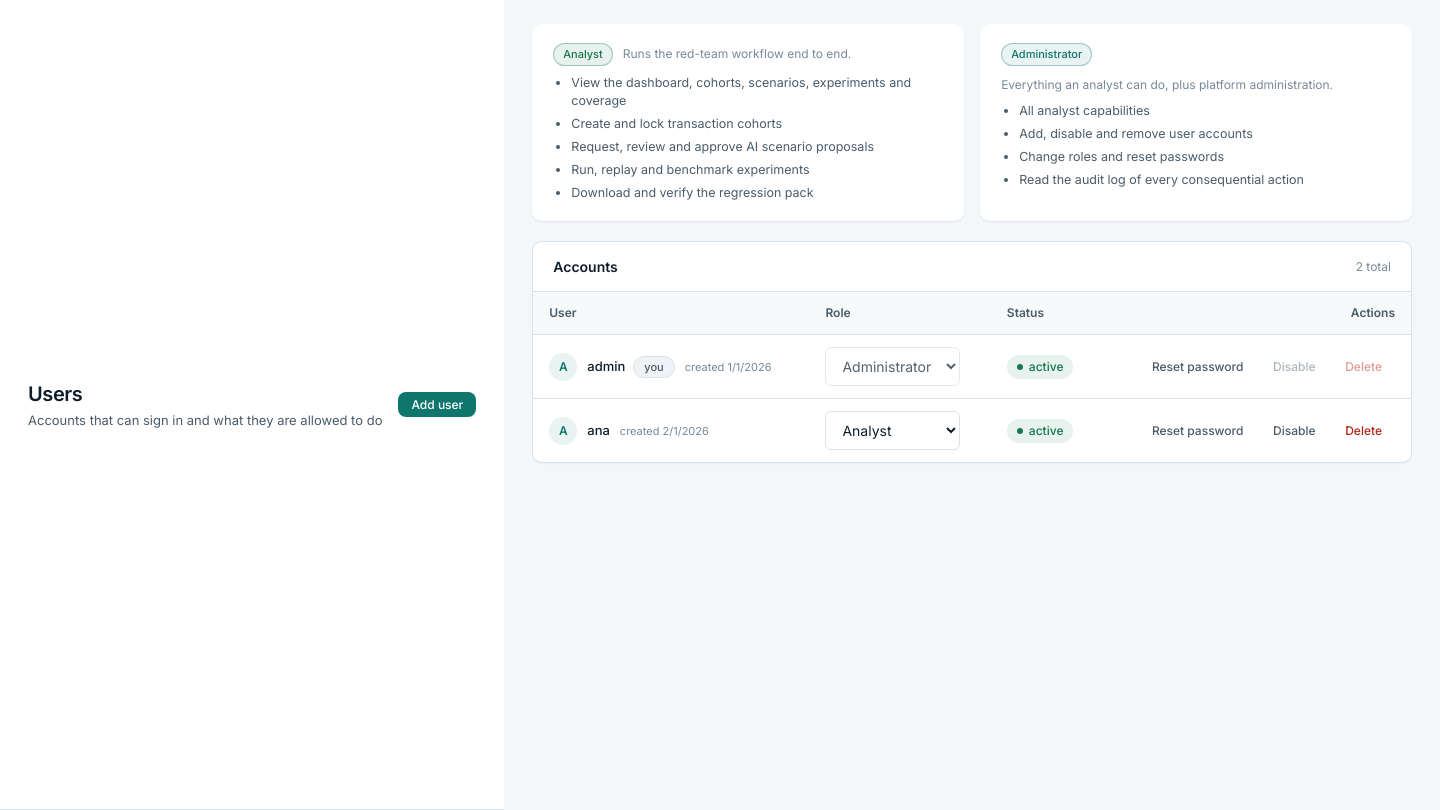
Test: Users page › creates a user
expect the table named "User accounts" is shown: met, box [533, 292, 1411, 462]
Step 1. Click the button "Add user" → (437, 404), box [398, 392, 476, 417]
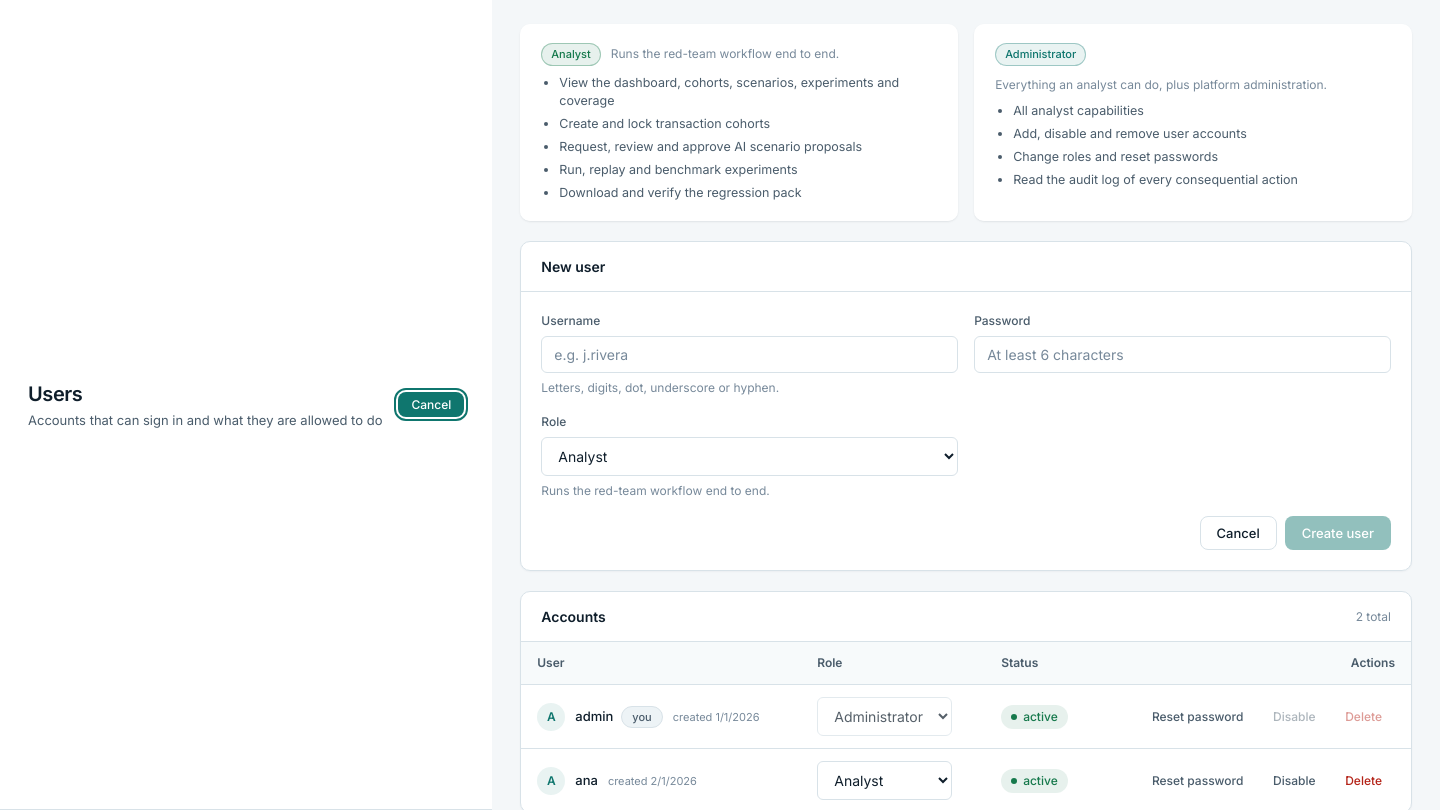
Step 2. Type "j.rivera" into the field labelled "Username" → (750, 355), box [541, 336, 958, 373]
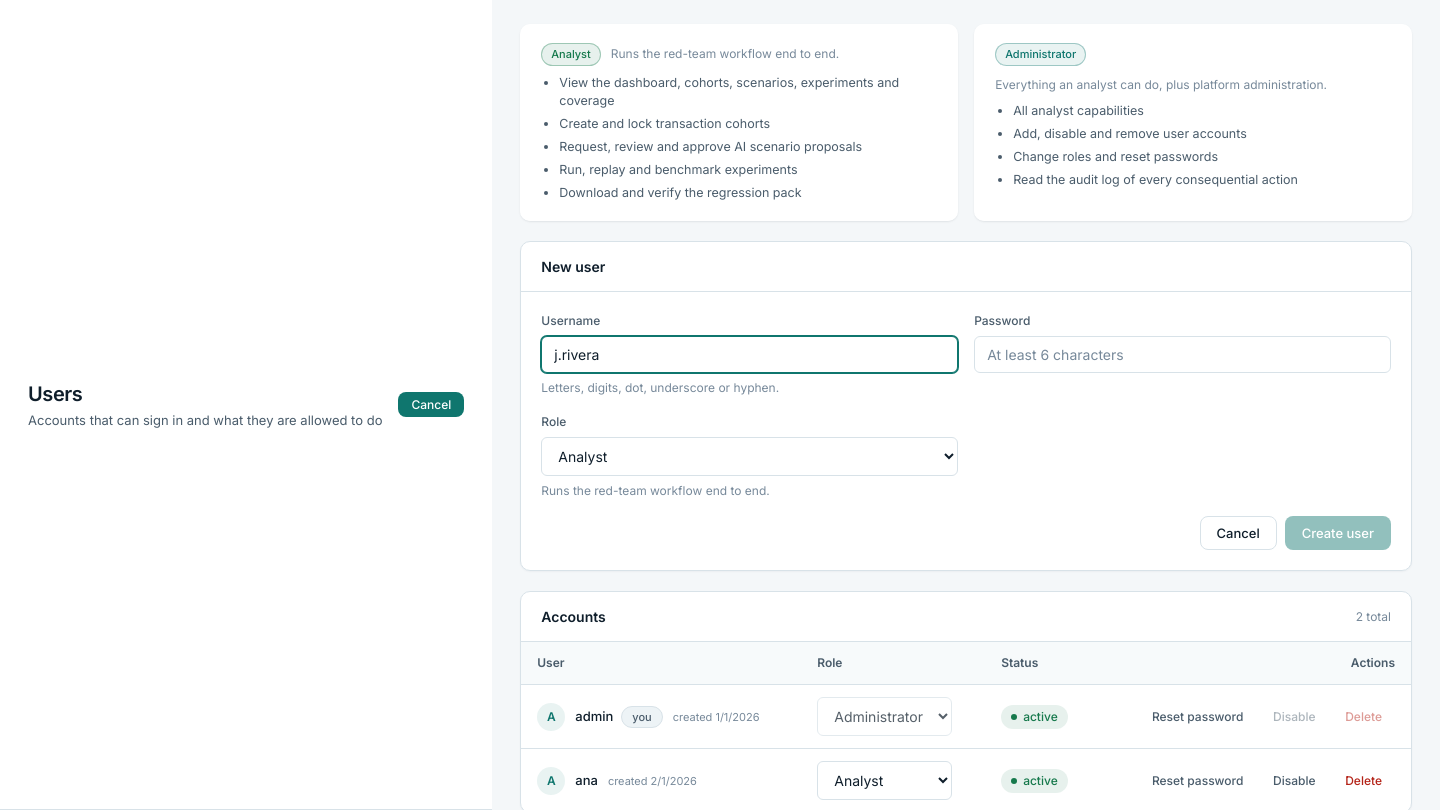
Step 3. Type "secret123" into the password field labelled "Password" → (1183, 355), box [974, 336, 1391, 373]
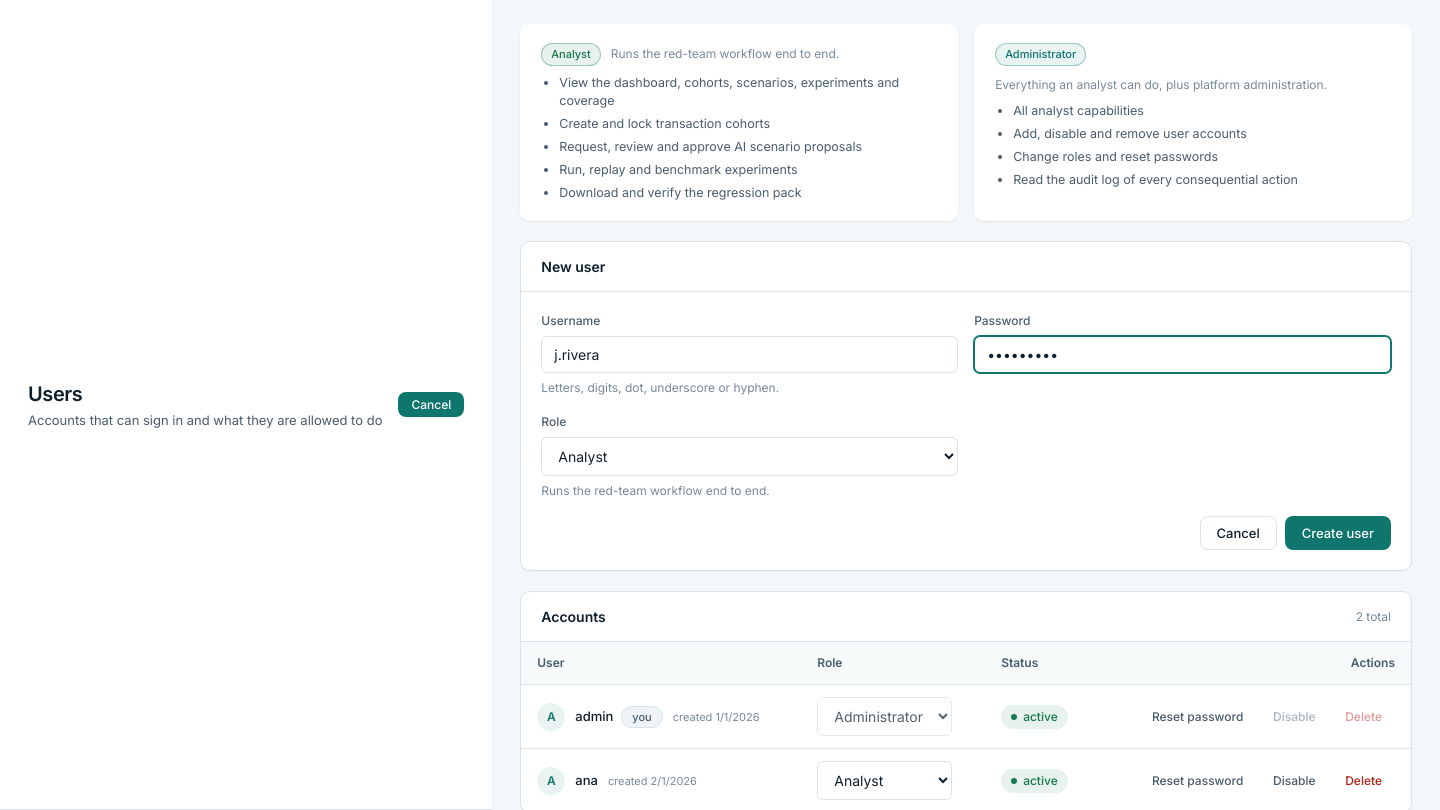
Step 4. Select "Administrator" in the dropdown labelled "Role" → (750, 457), box [541, 437, 958, 476]
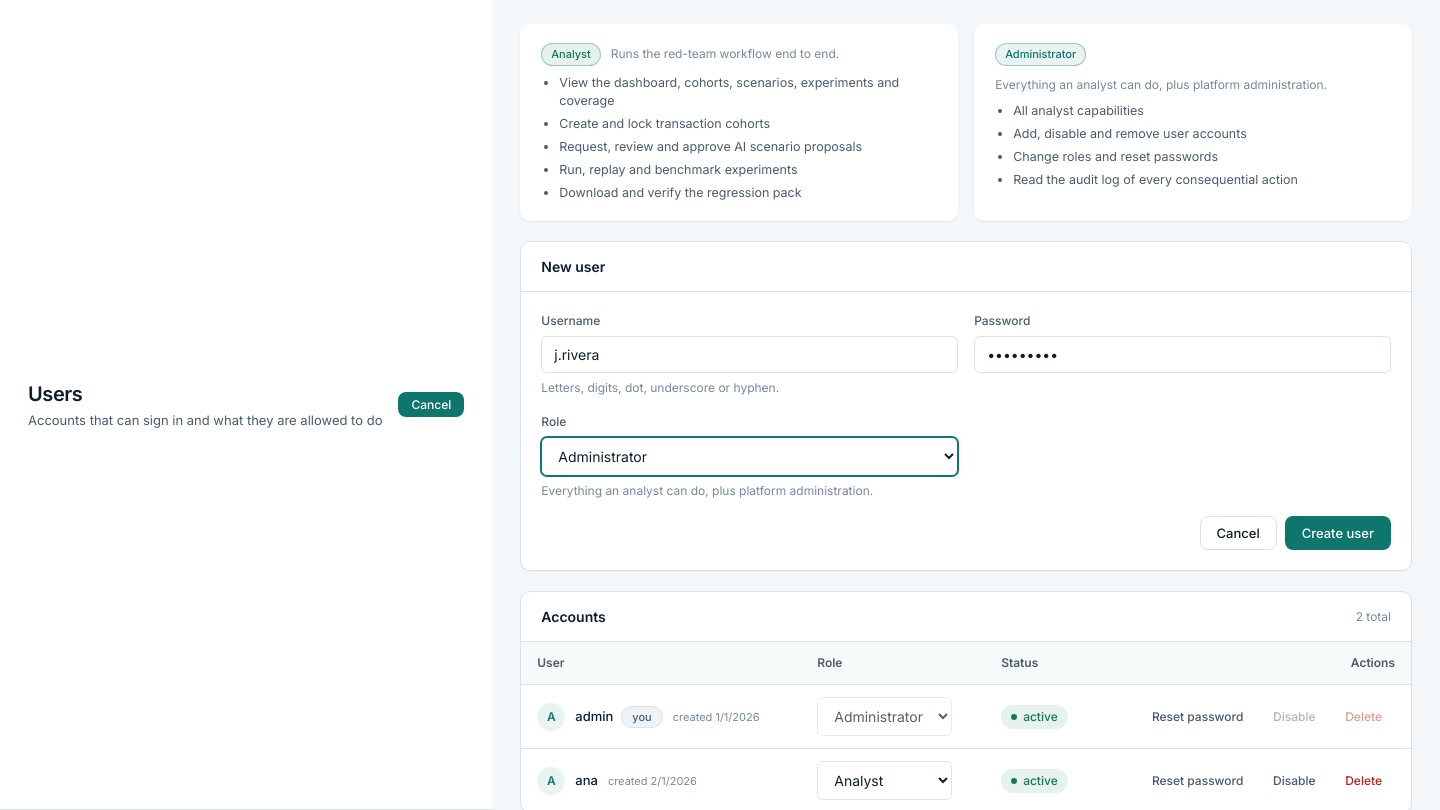
Step 5. Click the button "Create user" → (1338, 533), box [1285, 516, 1391, 550]
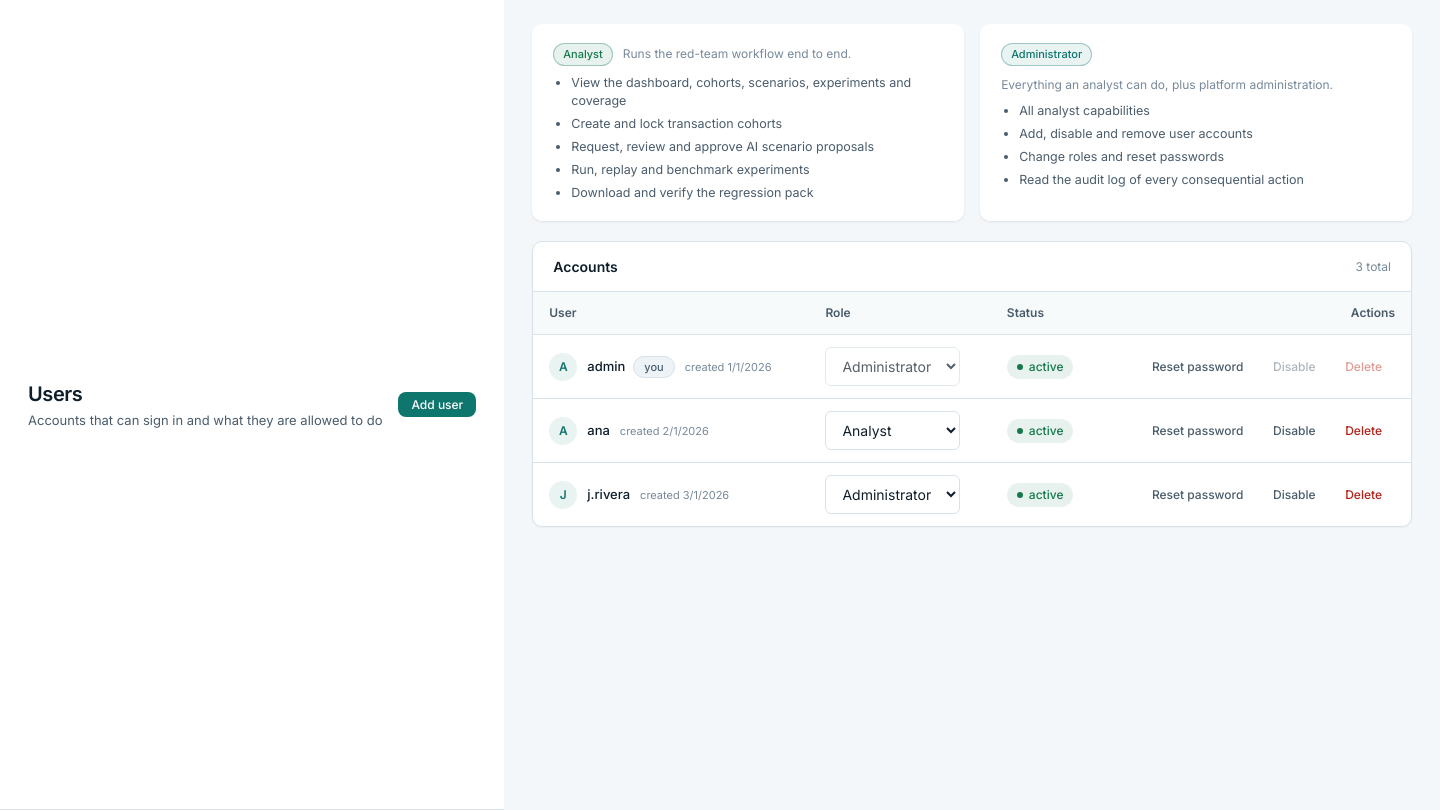
expect the text "j.rivera" is shown: met, box [587, 485, 630, 504]
